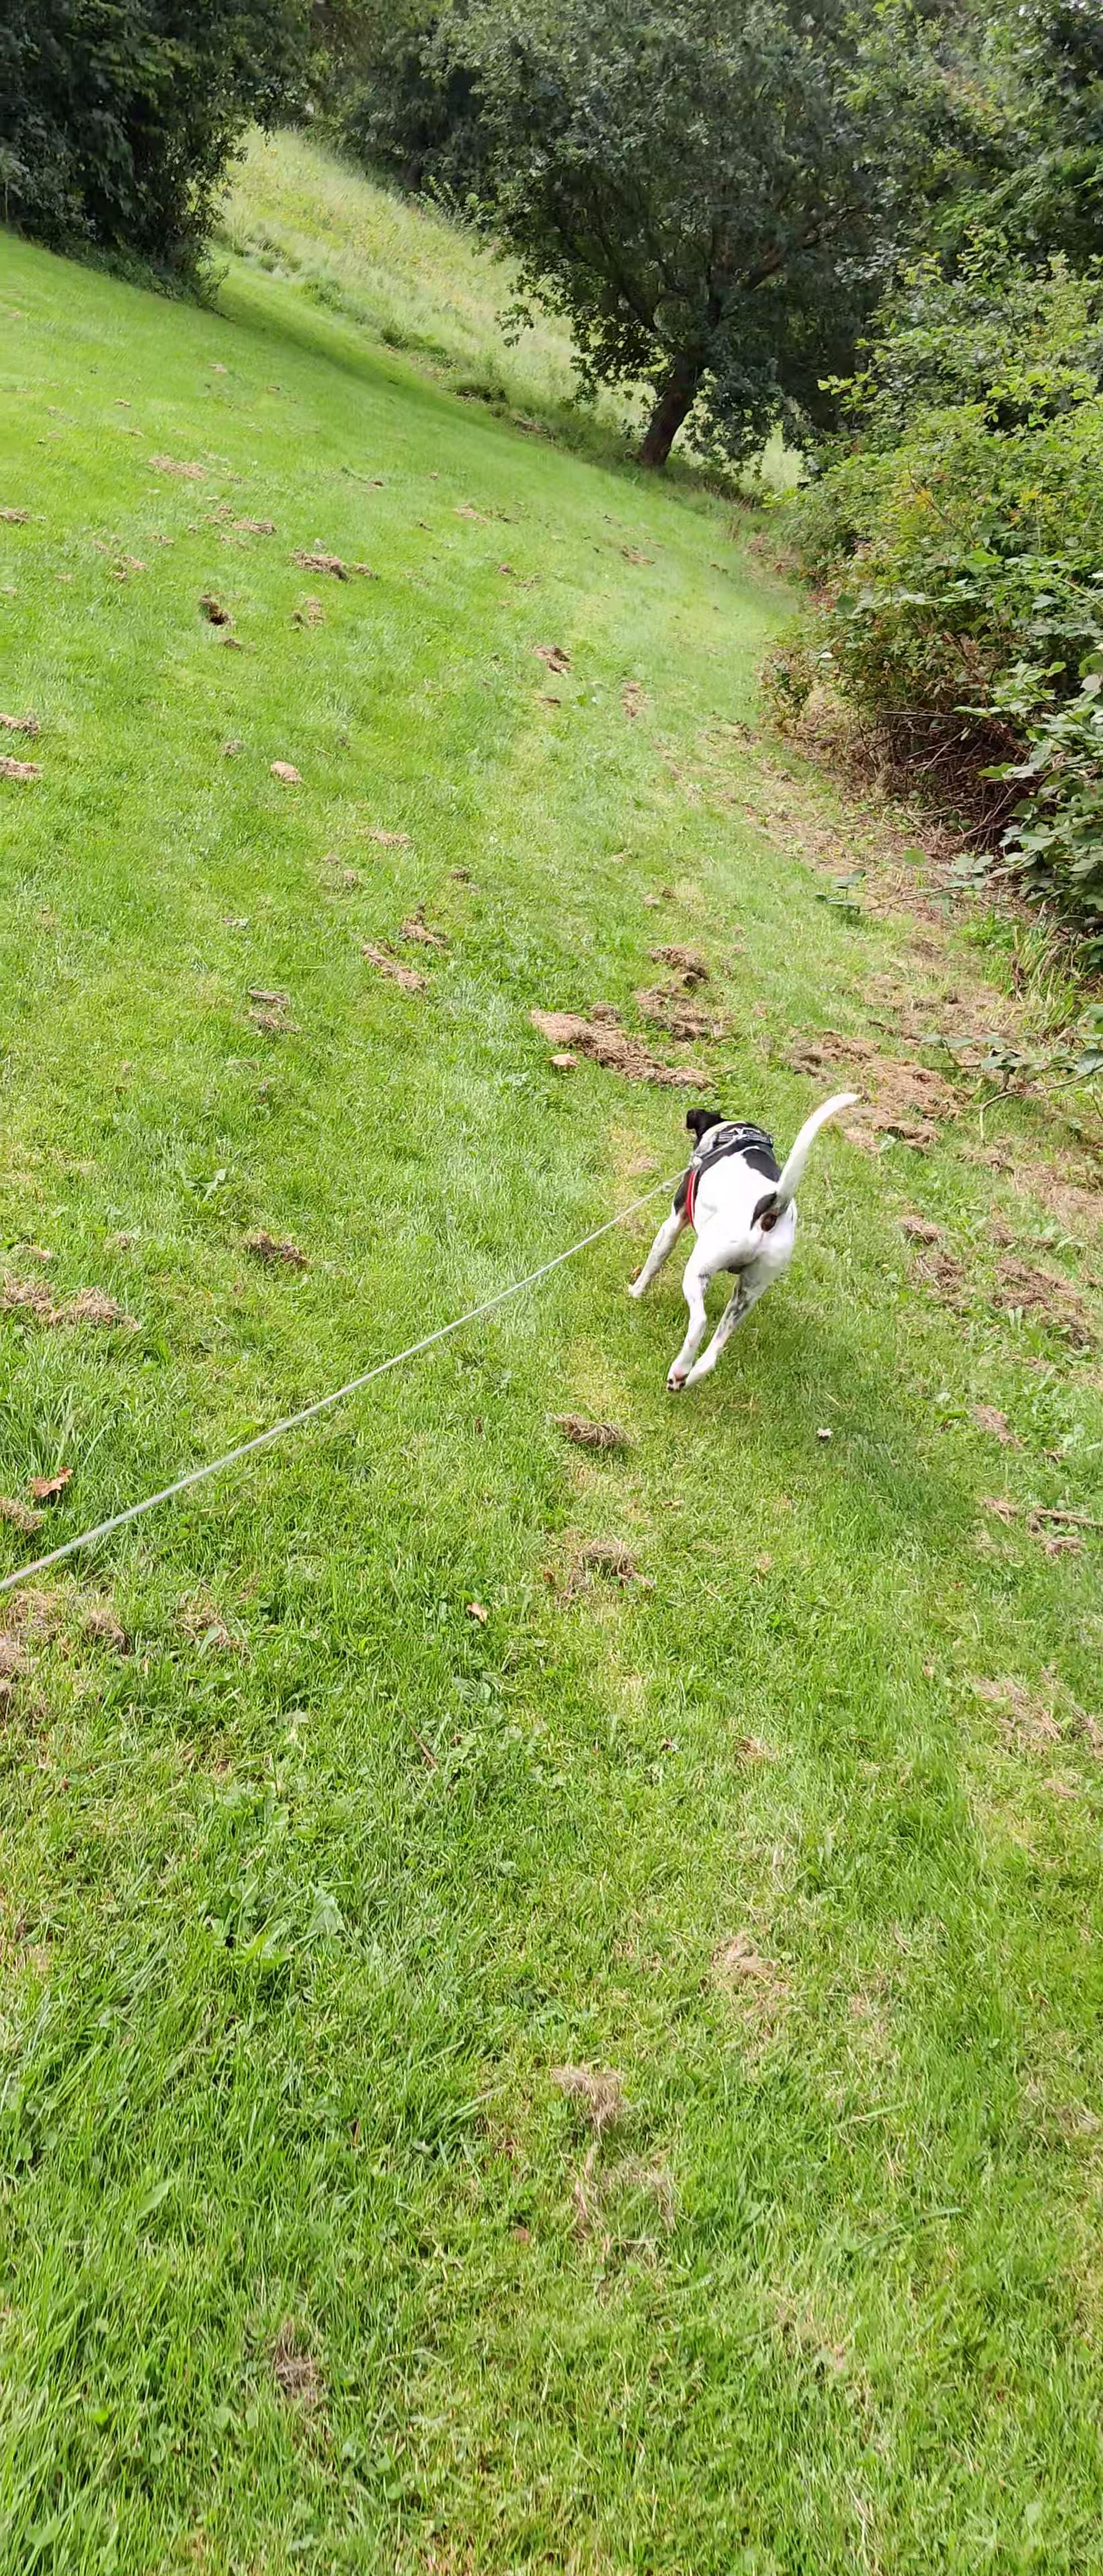Dog: (613, 1050, 875, 1424)
